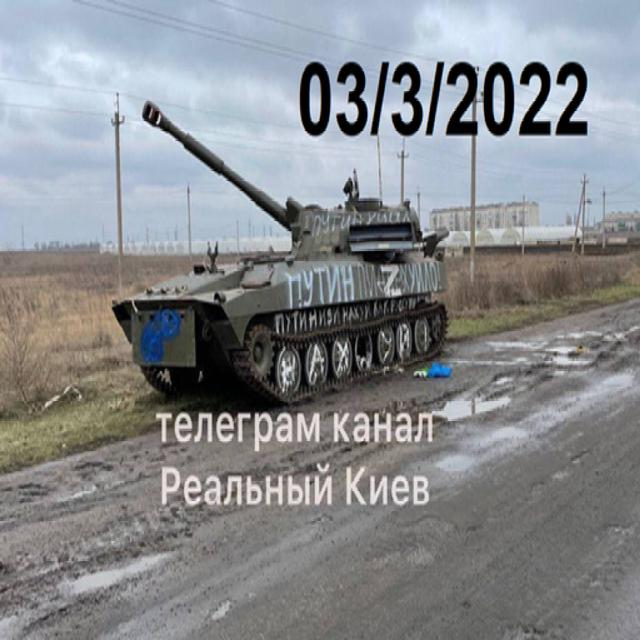ART: (109, 96, 450, 411)
